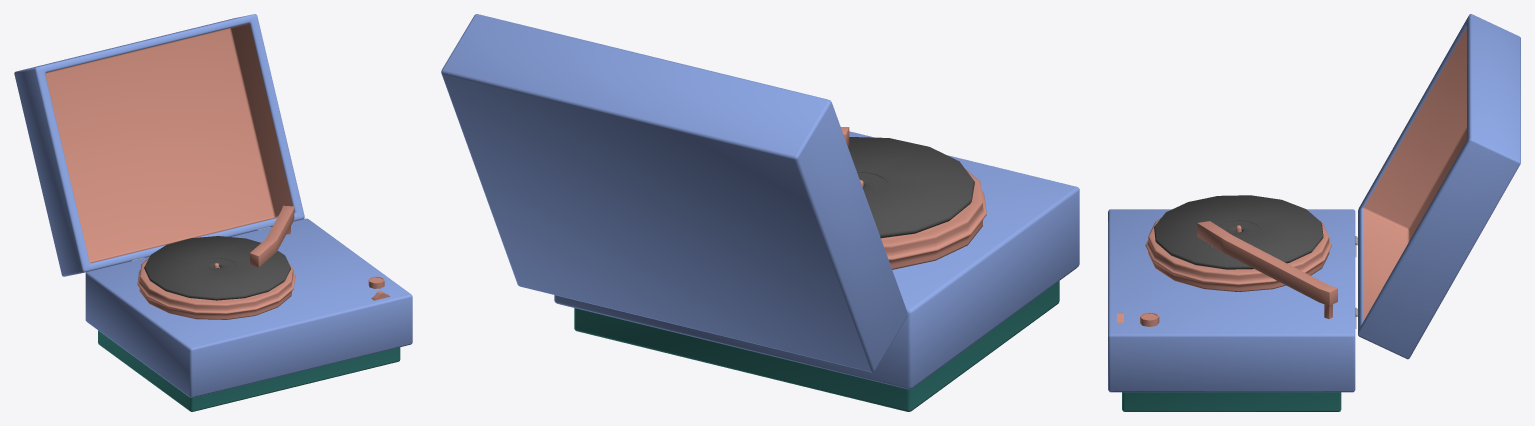
The model's file is RecordPlayer.fbx.
The picture shows the model from 3 angles, left to right: view 1: azimuth 30°, elevation 25°; view 2: azimuth 150°, elevation 25°; view 3: azimuth 270°, elevation 25°; orthographic projection. The views are drawn at different scales.
Visible parts, largest first — view 1: Cube.003, Cube, Cylinder.001, Cylinder, Cube.001; view 2: Cube.003, Cube, Cylinder.001, Cylinder; view 3: Cube, Cube.003, Cylinder.001, Cylinder, Cube.001.
Boxes of the visible parts, x1=… form: Cube.003: x1=14, y1=14, x2=304, y2=276; Cube: x1=85, y1=218, x2=412, y2=411; Cylinder.001: x1=144, y1=236, x2=291, y2=300; Cylinder: x1=137, y1=258, x2=295, y2=319; Cube.001: x1=249, y1=205, x2=294, y2=267; Cube.003: x1=441, y1=14, x2=907, y2=372; Cube: x1=554, y1=131, x2=1079, y2=411; Cylinder.001: x1=848, y1=137, x2=974, y2=238; Cylinder: x1=860, y1=169, x2=986, y2=269; Cube: x1=1108, y1=209, x2=1357, y2=411; Cube.003: x1=1355, y1=14, x2=1520, y2=359; Cylinder.001: x1=1154, y1=195, x2=1323, y2=269; Cylinder: x1=1145, y1=218, x2=1331, y2=291; Cube.001: x1=1197, y1=221, x2=1337, y2=318.
Size of the model in its own units: 148 by 151 by 204.
